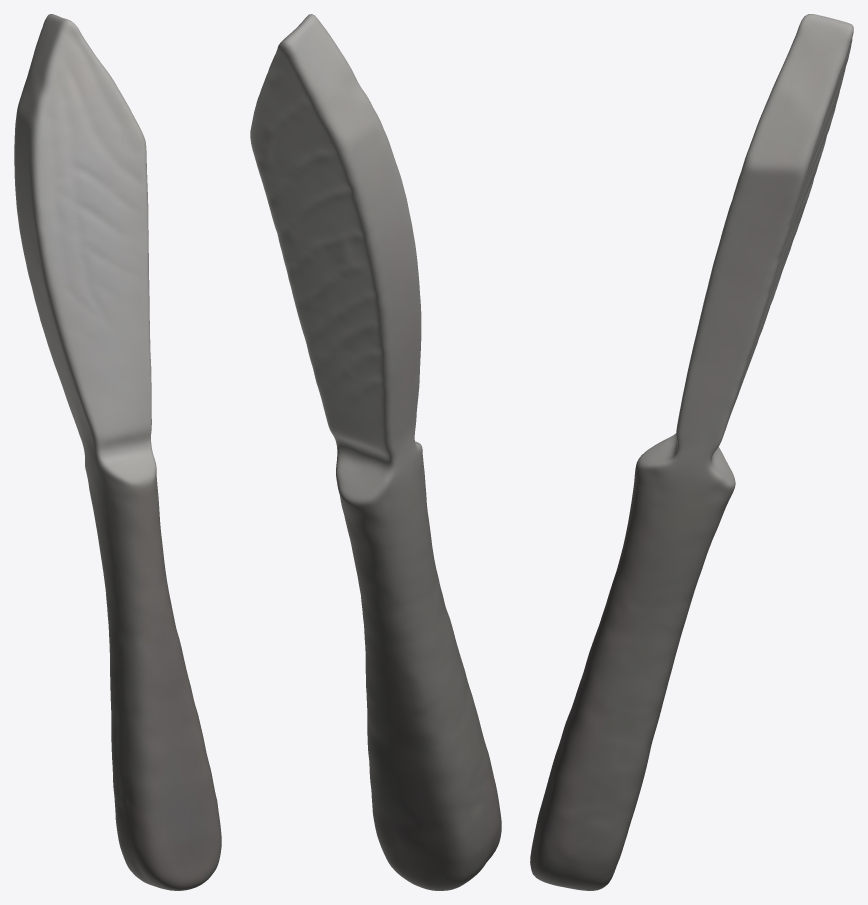
The model's file is model_dessert_knife.glb.
3 views of the same model, side by side, from view 1: azimuth 30°, elevation 25°; view 2: azimuth 150°, elevation 25°; view 3: azimuth 270°, elevation 25° (orthographic). The views are drawn at different scales.
Parts seen in each view (by area): view 1: tripo_node_ef08644c-e2d0-4bde-bc21-c390e44481e3; view 2: tripo_node_ef08644c-e2d0-4bde-bc21-c390e44481e3; view 3: tripo_node_ef08644c-e2d0-4bde-bc21-c390e44481e3.
Boxes of the visible parts, bbox=[...] form: tripo_node_ef08644c-e2d0-4bde-bc21-c390e44481e3: bbox=[14, 14, 221, 890]; tripo_node_ef08644c-e2d0-4bde-bc21-c390e44481e3: bbox=[250, 14, 501, 890]; tripo_node_ef08644c-e2d0-4bde-bc21-c390e44481e3: bbox=[530, 14, 853, 890].
Size of the model in its own units: 0.1463 by 0.9998 by 0.3364.
1 material, 1 textured.
